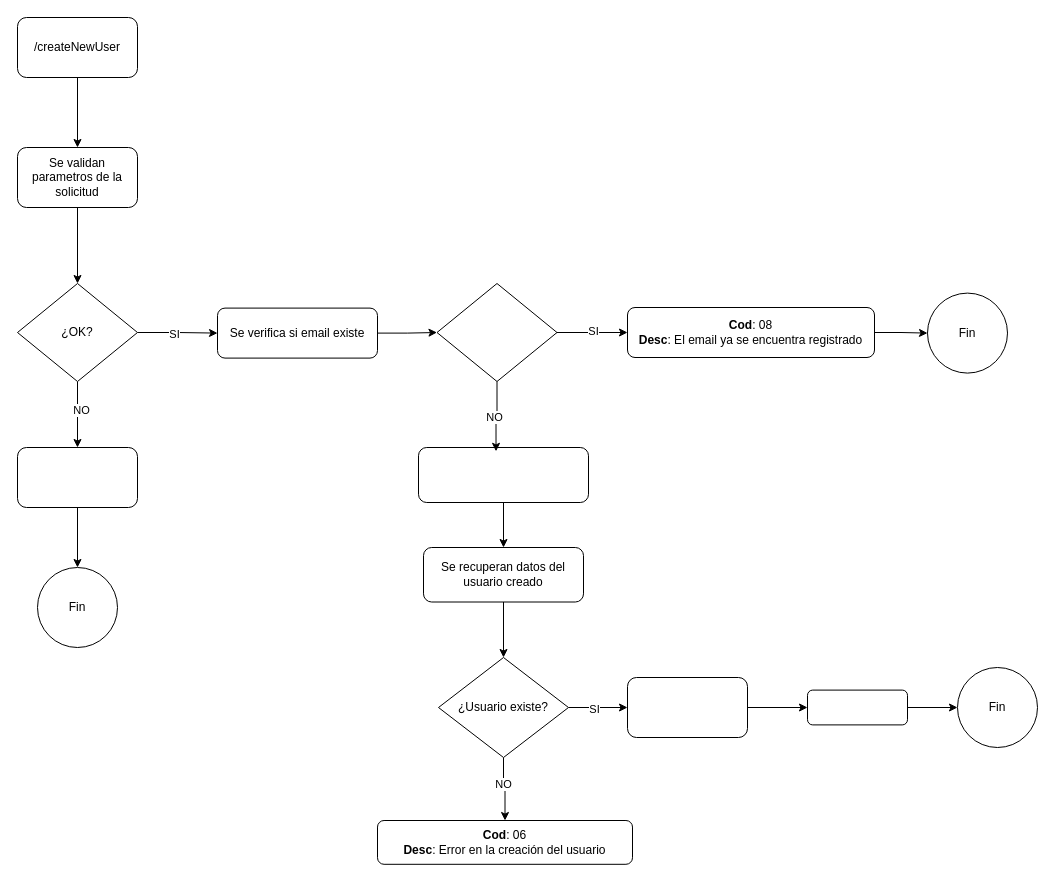
The diagram is 1055 pixels wide and 882 high, and some of its shapes have lost their labels. Here are the shapes that lost their labels. From the top down, the box of each, then its label:
(436, 282, 557, 382): ¿Email existe?
(16, 446, 138, 508): Se responde código y descripción según sea el campo que fallo
(418, 446, 588, 502): Se crea usuario
(626, 676, 748, 738): Se responden los datos del usuario modificado
(806, 689, 908, 725): Cod : 00 Desc : OK
